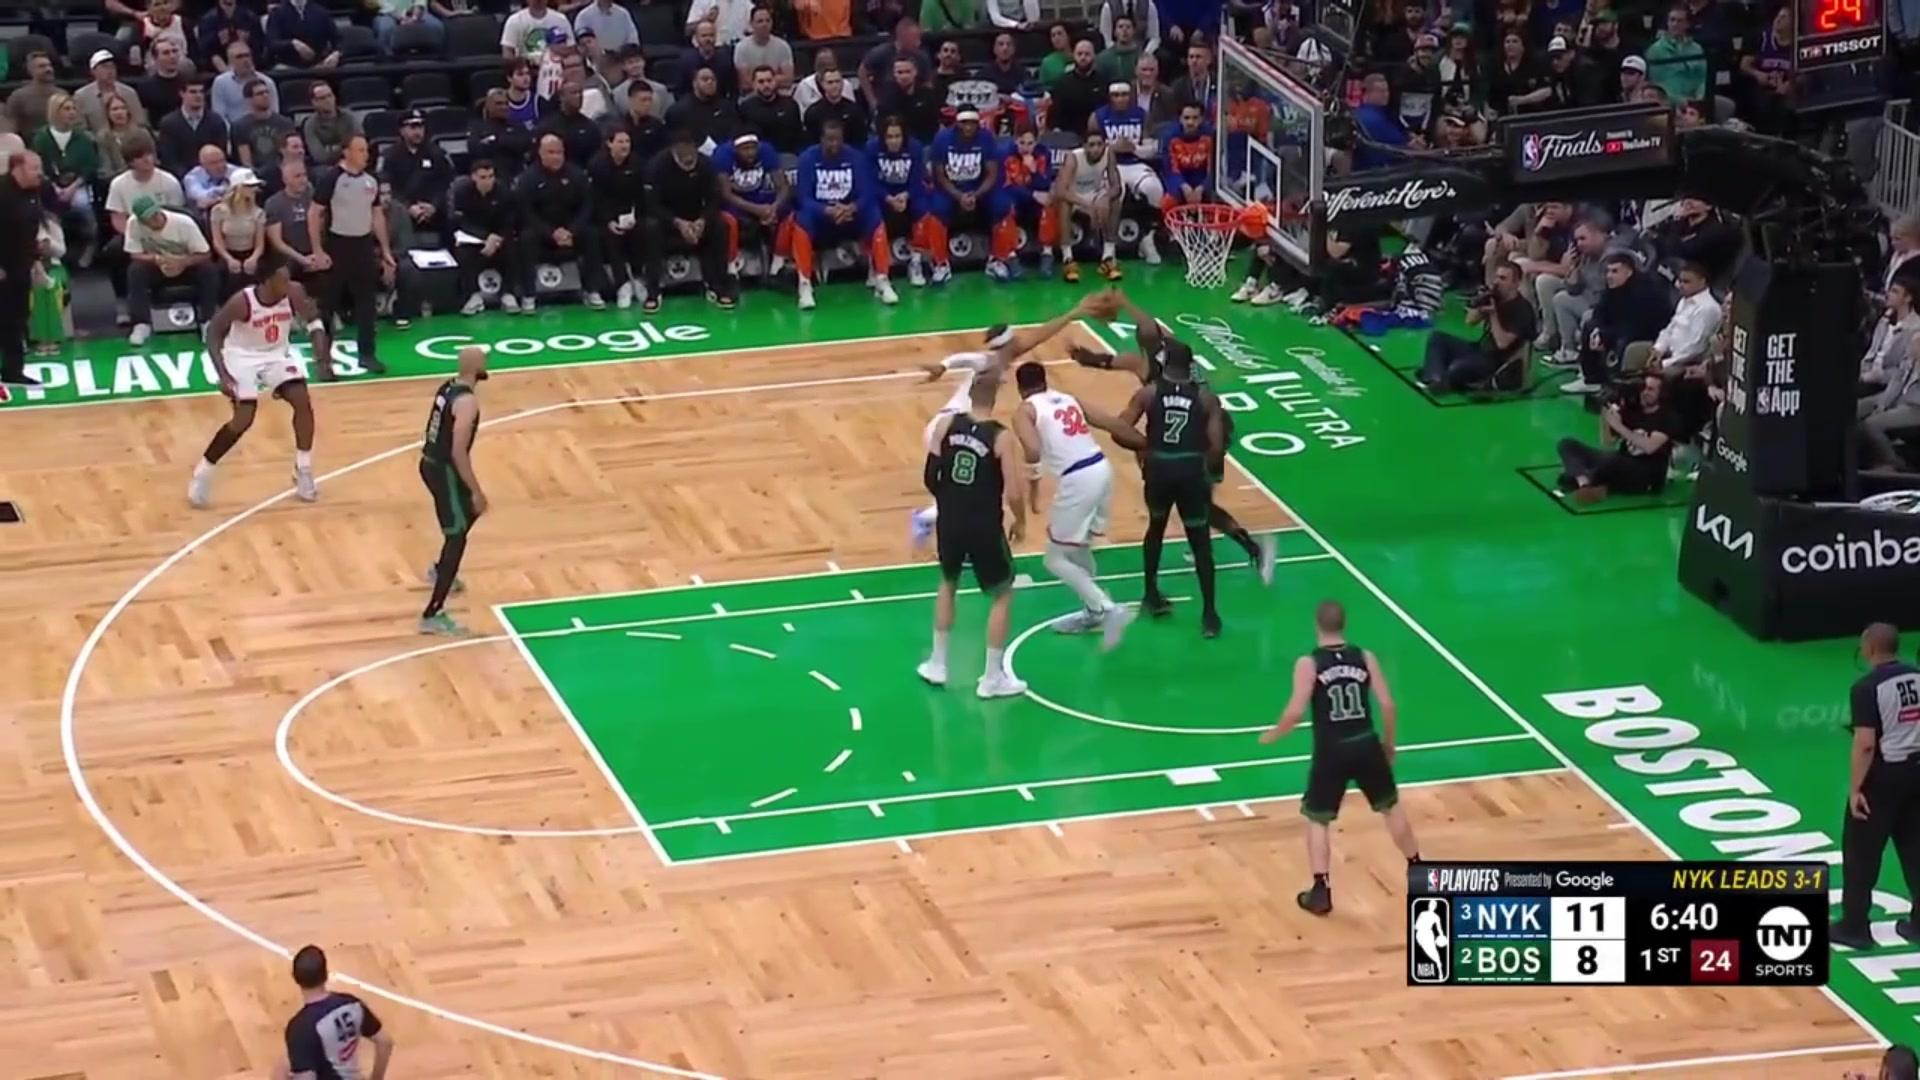no_foul: (922, 269, 1233, 468)
